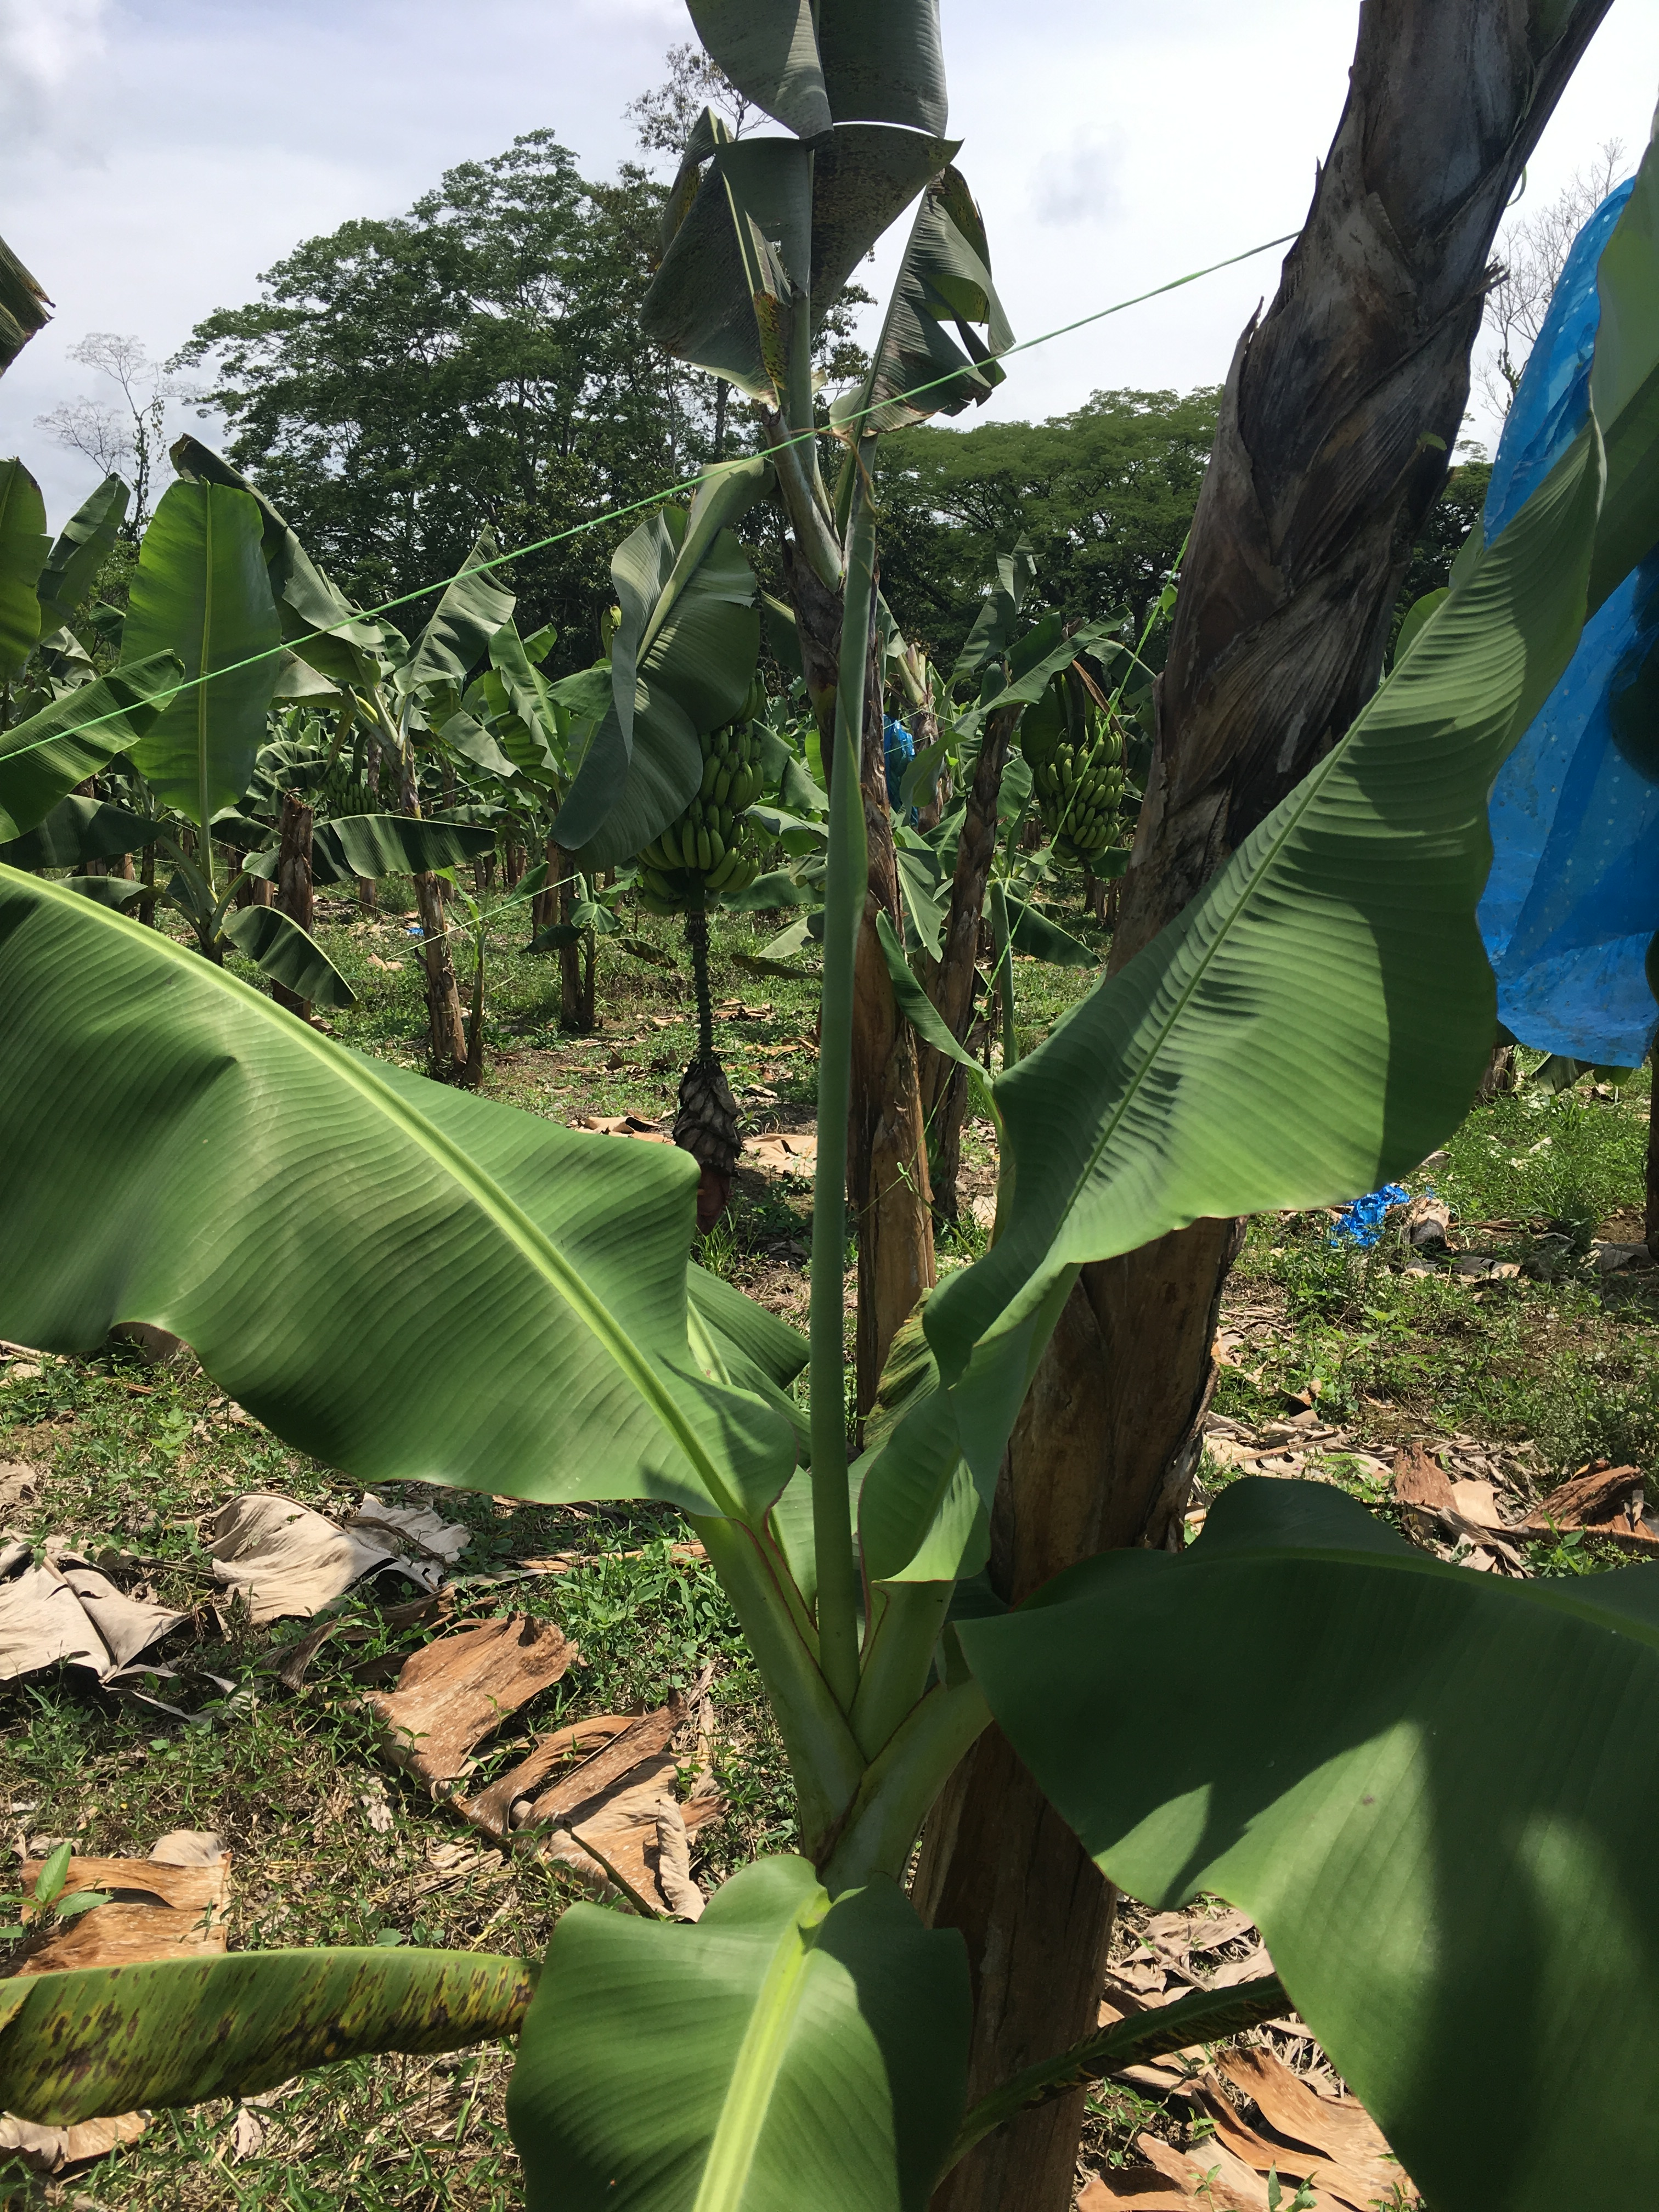candleleafs: (802, 437, 899, 1611)
